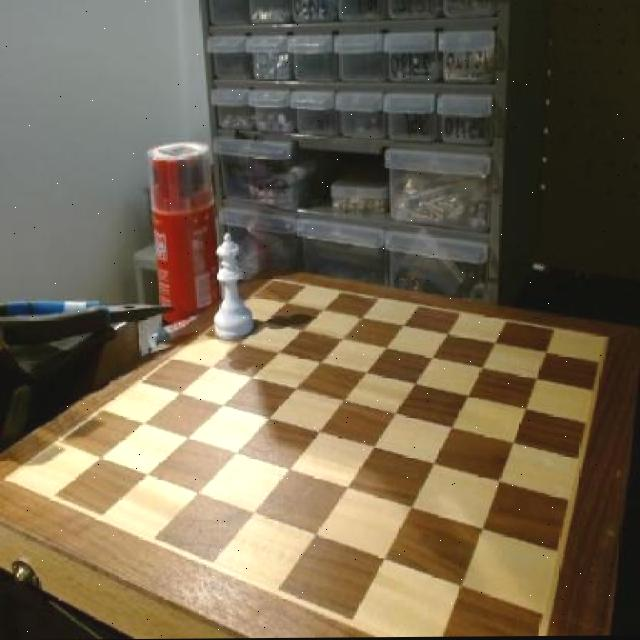white-pawn: (210, 234, 252, 347)
